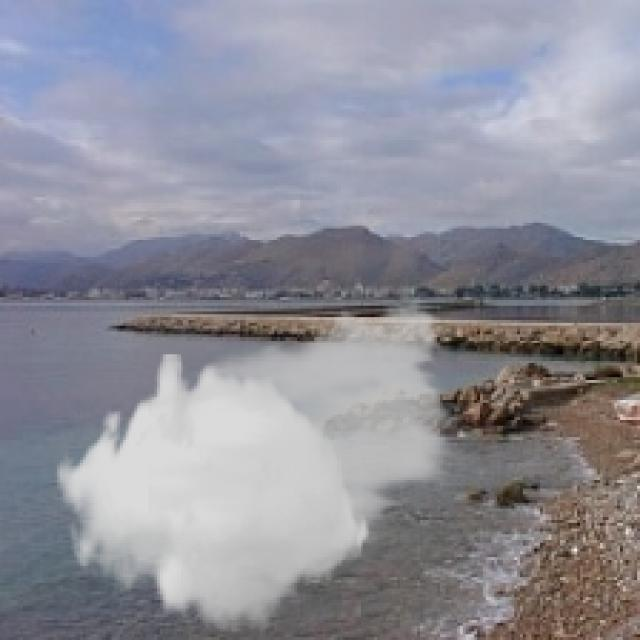Smoke: (54, 288, 466, 632)
